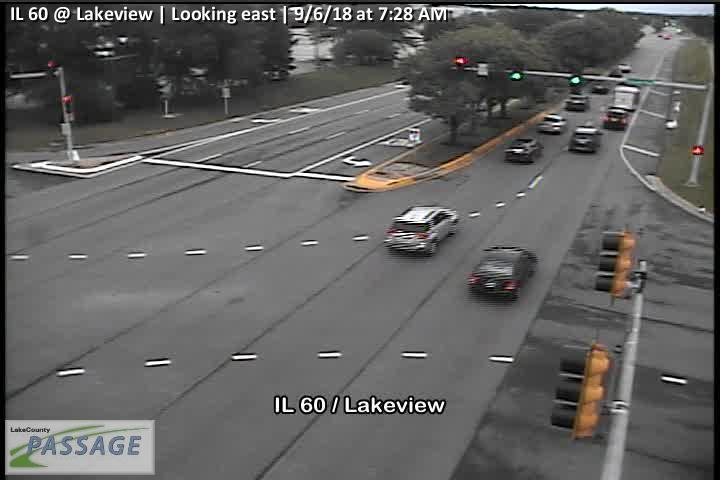SUV: (383, 204, 459, 256), (567, 127, 604, 154), (602, 108, 628, 131)
Sedan: (467, 246, 538, 303), (504, 140, 545, 163), (538, 114, 568, 135), (565, 94, 591, 112)
